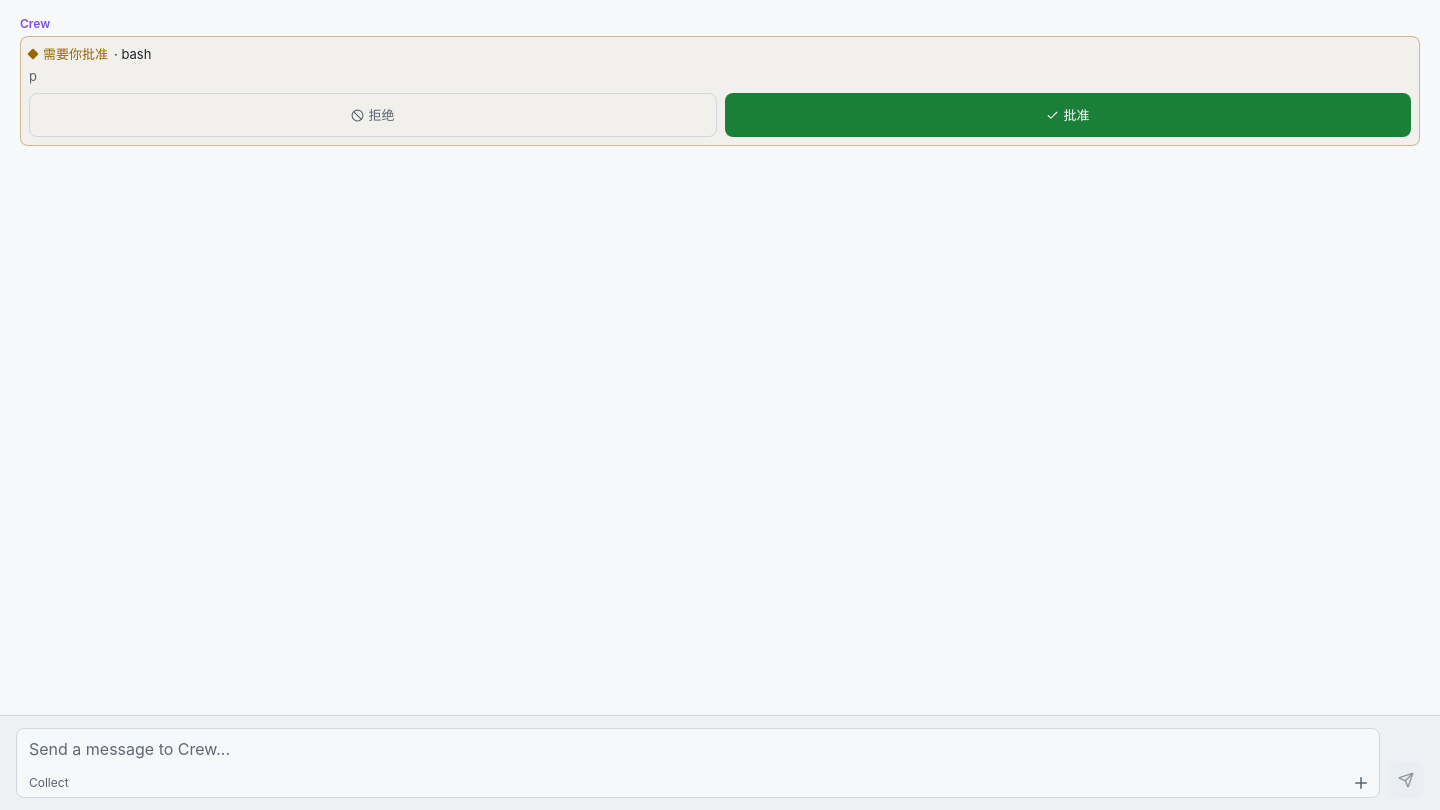
Scenario: T14 Crew 新事件变体在前端有 case（防静默丢弃） › 点「批准」把决定沿同一条 /ws/acp socket 上行，并收起按钮
Click the button with test id "approval-approve" at (1068, 115), box [725,93,1411,137]
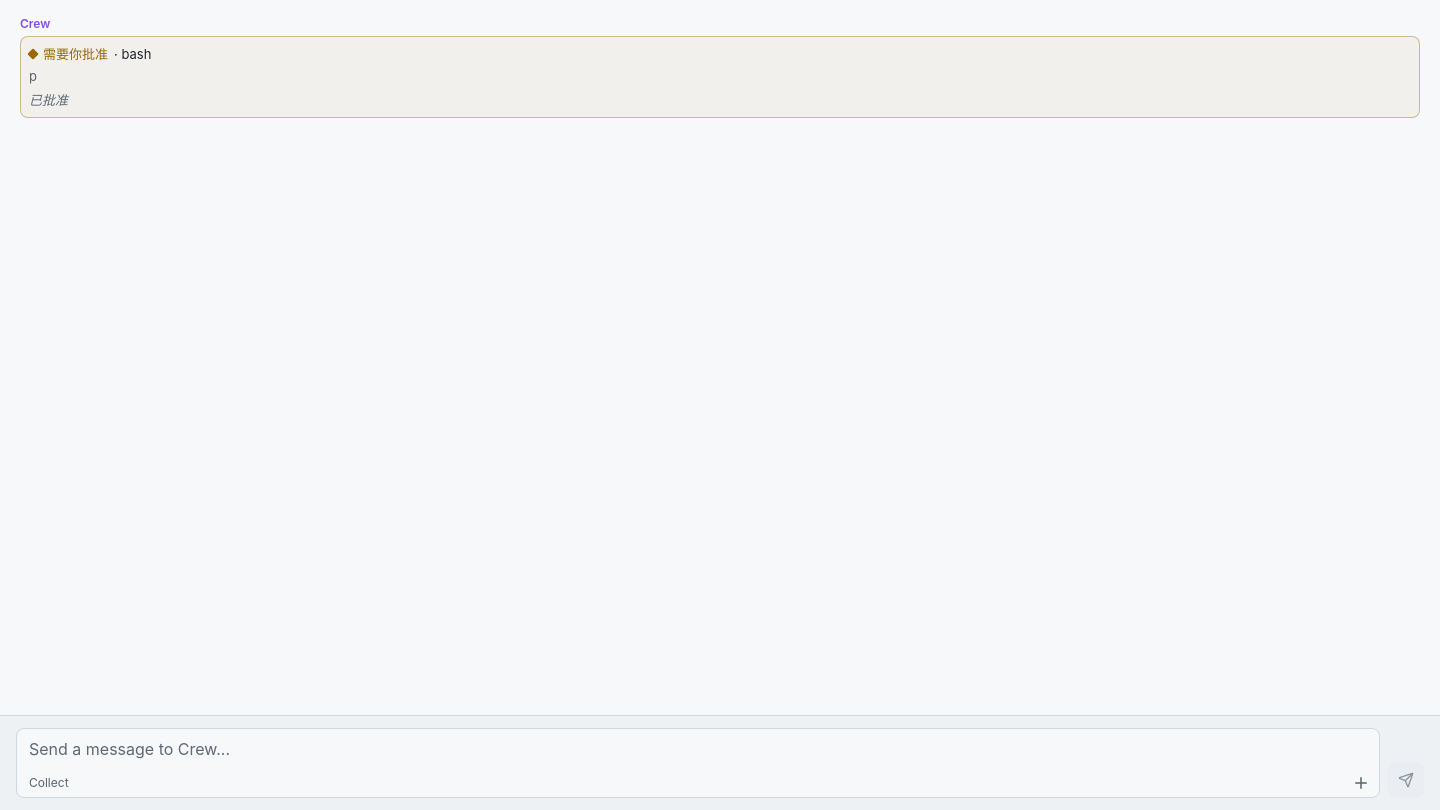
Expected: the button with test id "approval-approve" is gone
Expected: the text "已批准" is shown, [29,92,68,108]
